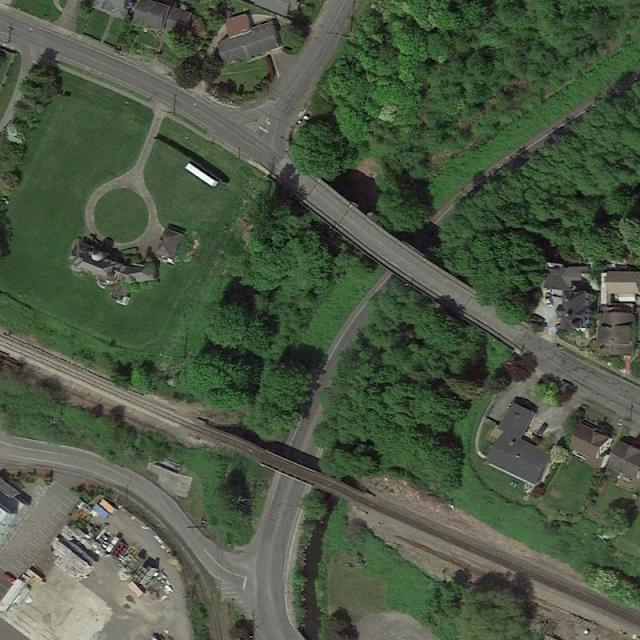vehicle: (538, 422, 548, 437), (3, 573, 16, 583), (545, 293, 553, 307)
